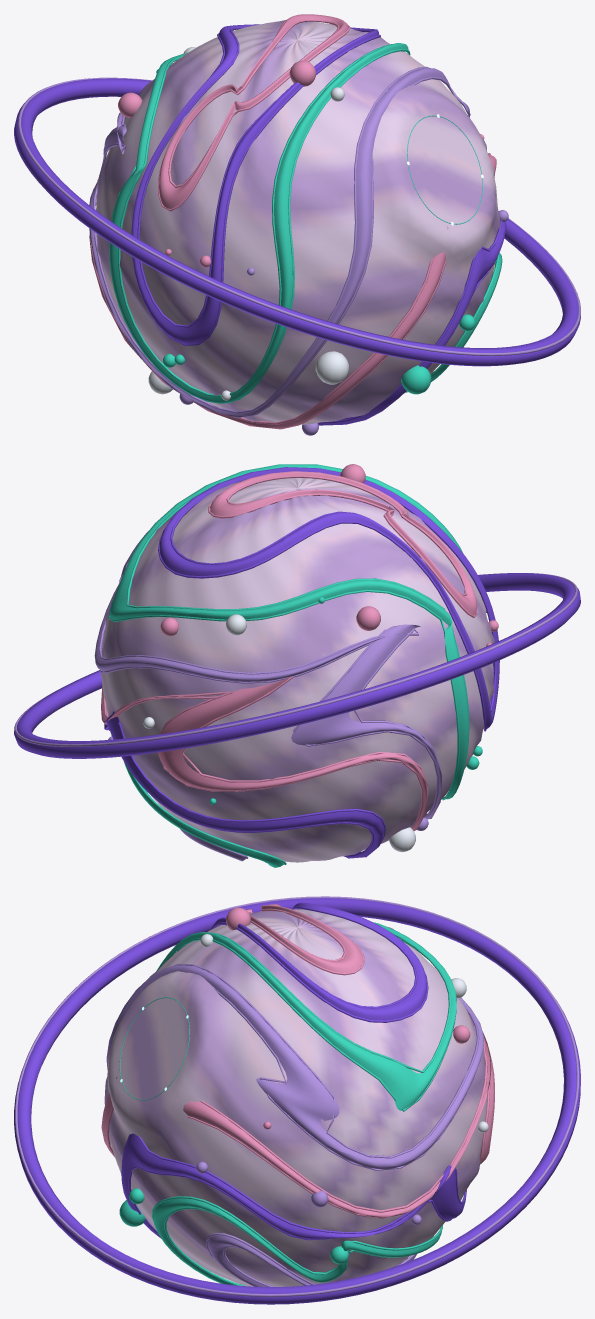
File: planet-tongue.glb
3 renders of one model, top to bottom at view 1: azimuth 30°, elevation 25°; view 2: azimuth 150°, elevation 25°; view 3: azimuth 270°, elevation 25°, orthographic. The views are drawn at different scales.
Visible parts, largest first — view 1: MyoSkills tongue / Sculpted pearl · vertex colour, MyoSkills tongue / Violet satin resin, MyoSkills tongue / Mint opaline resin, MyoSkills tongue / Lavender pearl, MyoSkills tongue / Blush ceramic, MyoSkills tongue / Ivory ceramic; view 2: MyoSkills tongue / Sculpted pearl · vertex colour, MyoSkills tongue / Violet satin resin, MyoSkills tongue / Blush ceramic, MyoSkills tongue / Lavender pearl, MyoSkills tongue / Mint opaline resin, MyoSkills tongue / Ivory ceramic; view 3: MyoSkills tongue / Sculpted pearl · vertex colour, MyoSkills tongue / Violet satin resin, MyoSkills tongue / Lavender pearl, MyoSkills tongue / Mint opaline resin, MyoSkills tongue / Blush ceramic.
Boxes of the visible parts, x1,y1,x2,y2 form: MyoSkills tongue / Sculpted pearl · vertex colour: [96, 20, 500, 424]; MyoSkills tongue / Violet satin resin: [14, 24, 580, 425]; MyoSkills tongue / Mint opaline resin: [109, 43, 502, 403]; MyoSkills tongue / Lavender pearl: [18, 66, 580, 435]; MyoSkills tongue / Blush ceramic: [89, 14, 496, 429]; MyoSkills tongue / Ivory ceramic: [148, 47, 348, 400]; MyoSkills tongue / Sculpted pearl · vertex colour: [100, 478, 494, 862]; MyoSkills tongue / Violet satin resin: [14, 467, 580, 858]; MyoSkills tongue / Blush ceramic: [101, 464, 498, 830]; MyoSkills tongue / Lavender pearl: [14, 531, 577, 861]; MyoSkills tongue / Mint opaline resin: [108, 464, 482, 867]; MyoSkills tongue / Ivory ceramic: [143, 614, 415, 851]; MyoSkills tongue / Sculpted pearl · vertex colour: [104, 909, 487, 1286]; MyoSkills tongue / Violet satin resin: [14, 898, 580, 1304]; MyoSkills tongue / Lavender pearl: [15, 896, 579, 1296]; MyoSkills tongue / Mint opaline resin: [119, 922, 480, 1286]; MyoSkills tongue / Blush ceramic: [101, 904, 494, 1218].
Bounding box in the file's own units: 2.83 × 2.07 × 2.97.
